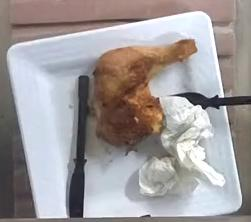chicken: (93, 40, 196, 145)
